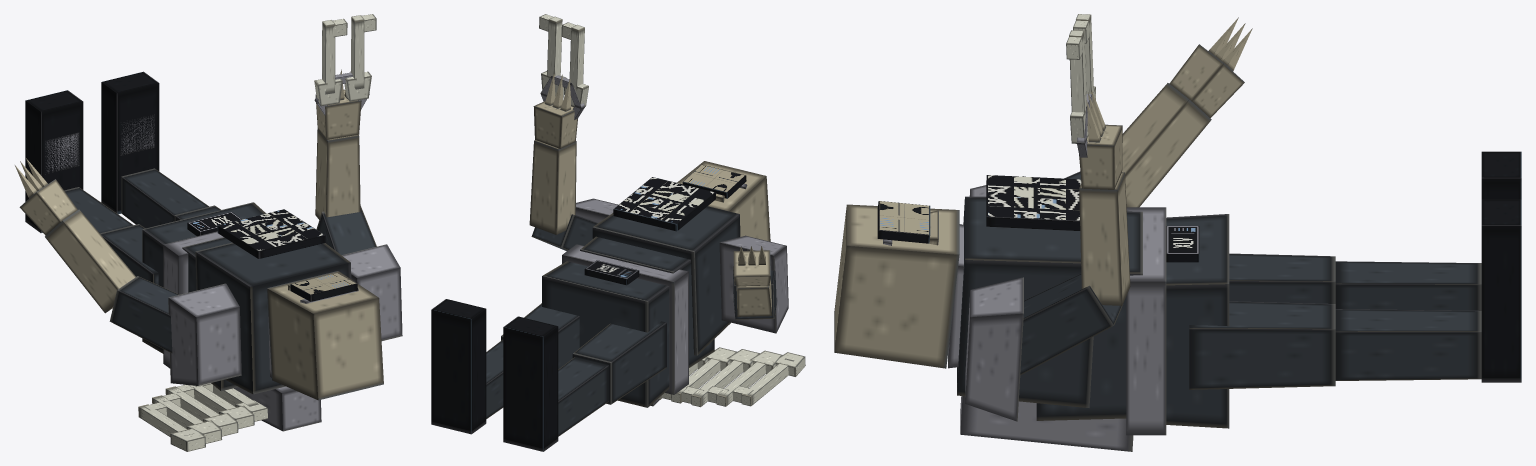
The model's file is absentiel_neutral.obj.
The picture shows the model from 3 angles, left to right: view 1: azimuth 30°, elevation 25°; view 2: azimuth 150°, elevation 25°; view 3: azimuth 270°, elevation 25°; orthographic projection. The views are drawn at different scales.
Parts seen in each view (by area): view 1: absentiel_neutral; view 2: absentiel_neutral; view 3: absentiel_neutral.
Part boxes in pixels (box(x1,y1,x2,y2)): absentiel_neutral: box(15, 14, 402, 451); absentiel_neutral: box(431, 14, 805, 451); absentiel_neutral: box(834, 14, 1521, 451).
Size of the model in its own units: 0.6475 by 0.7502 by 1.
1 material, 1 textured.
